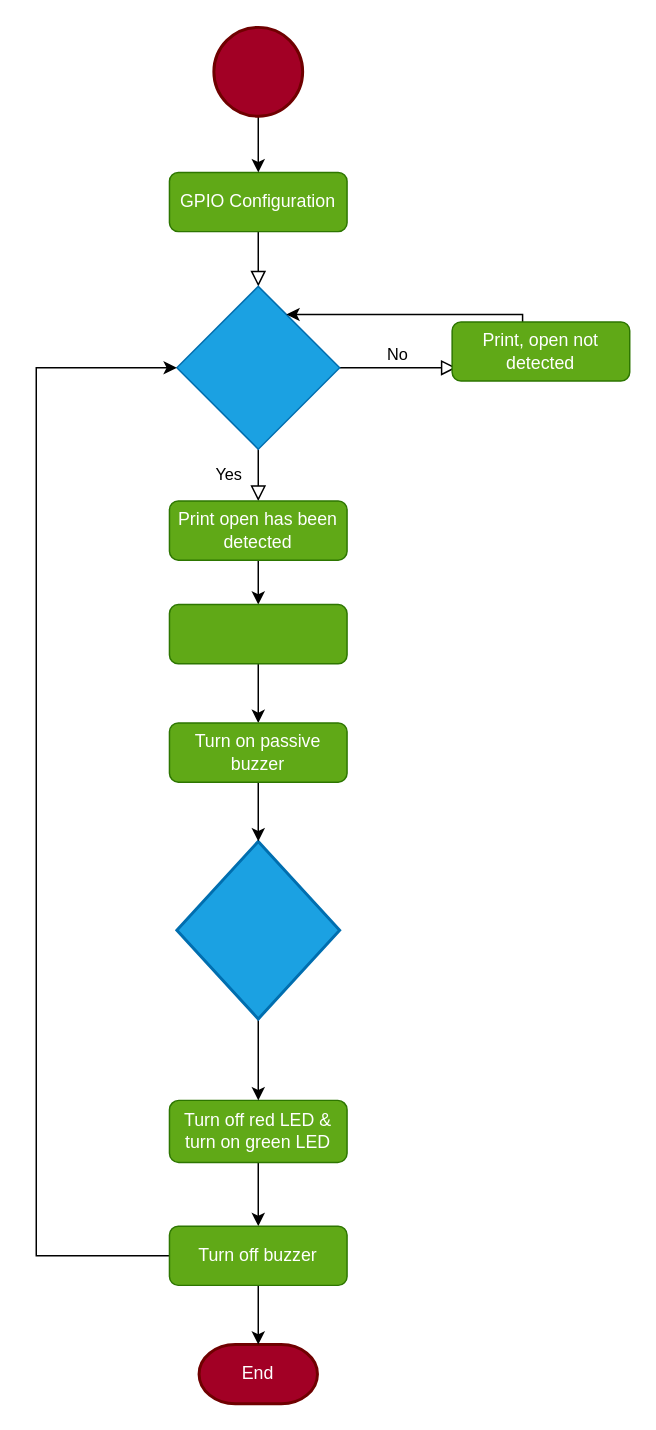
This 656x1430 diagram has some shape labels left out. The centre of each missing label's shape, as x and y in pixels:
"Check for reed switch input HIGH" goes at [257,367].
"Check for reed switch input LOW" goes at [257,929].
"Start" goes at [257,71].
"Turn off green LED & Flash red LED" goes at [257,633].
